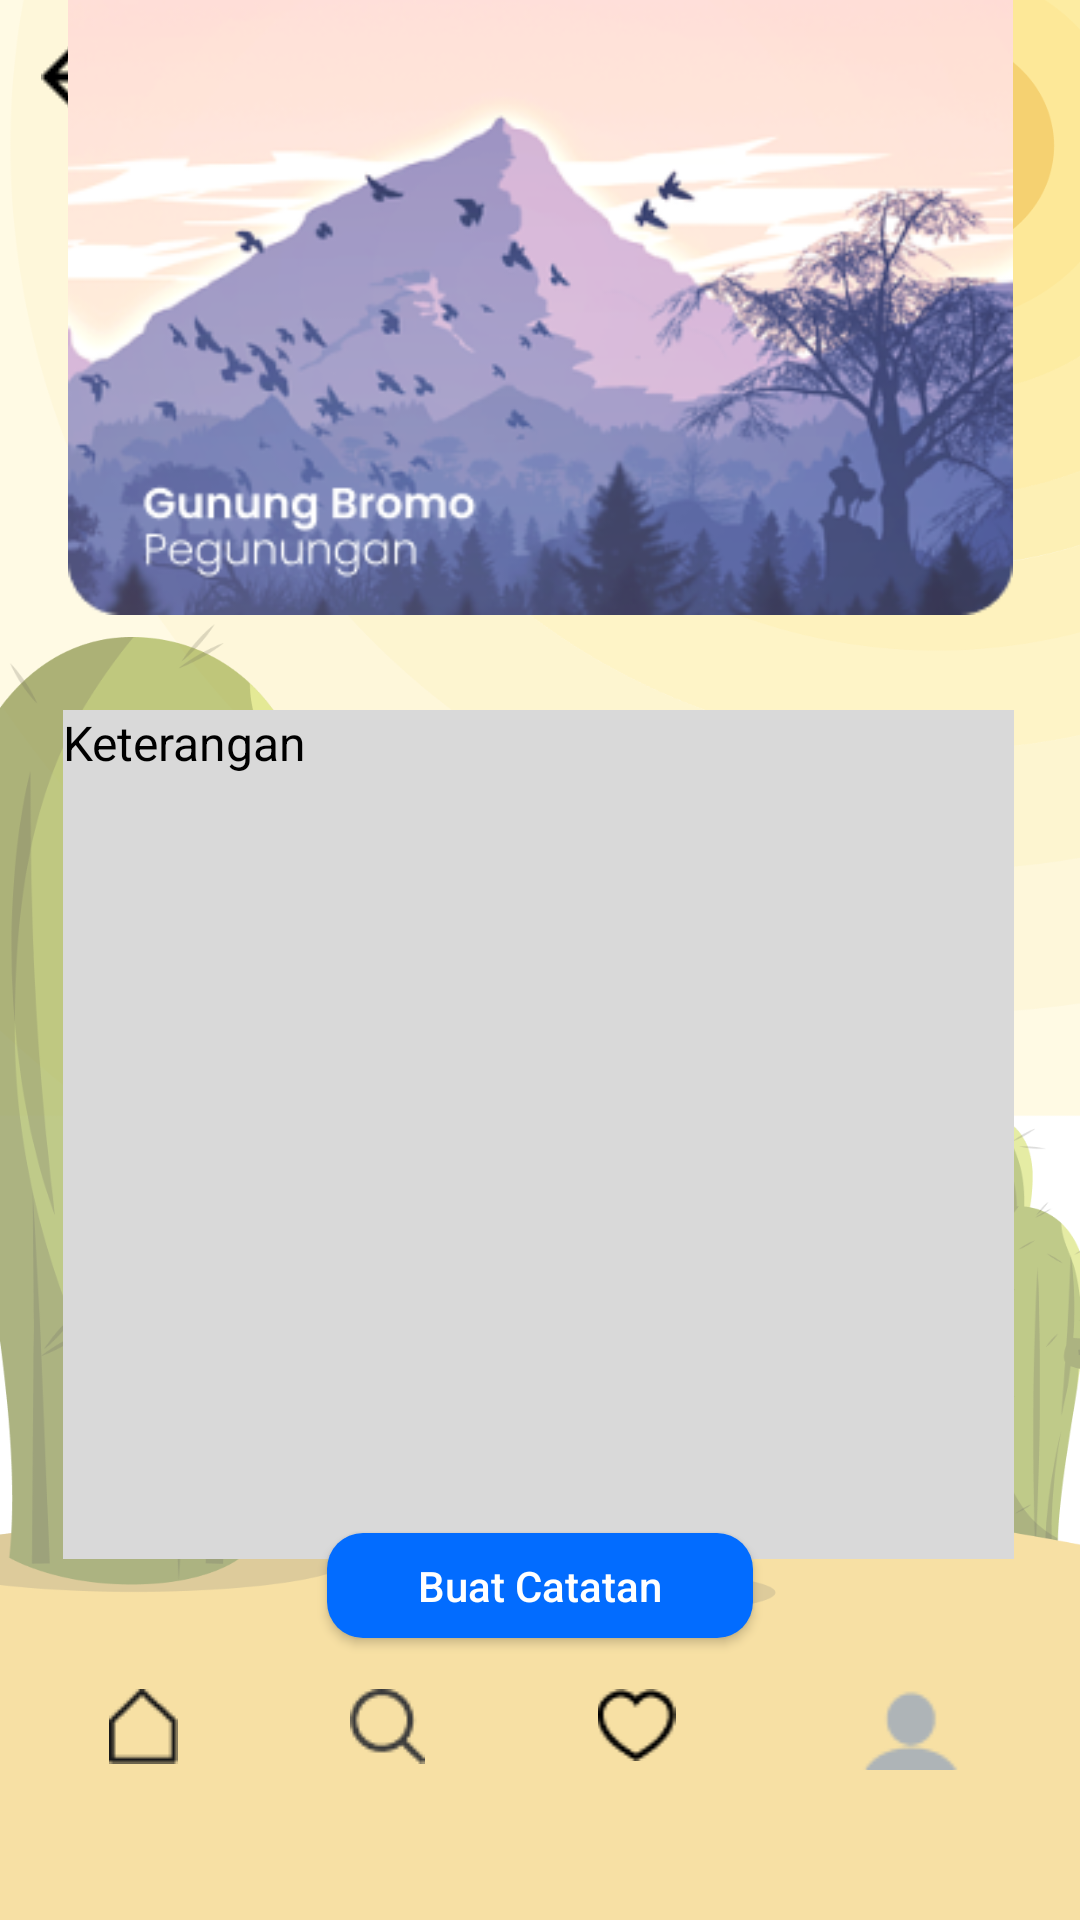

Named icons in this screenshot (1080 x 1920) and their centers, point (x, y):
home: point (143, 1726)
like: point (637, 1725)
search: point (387, 1726)
